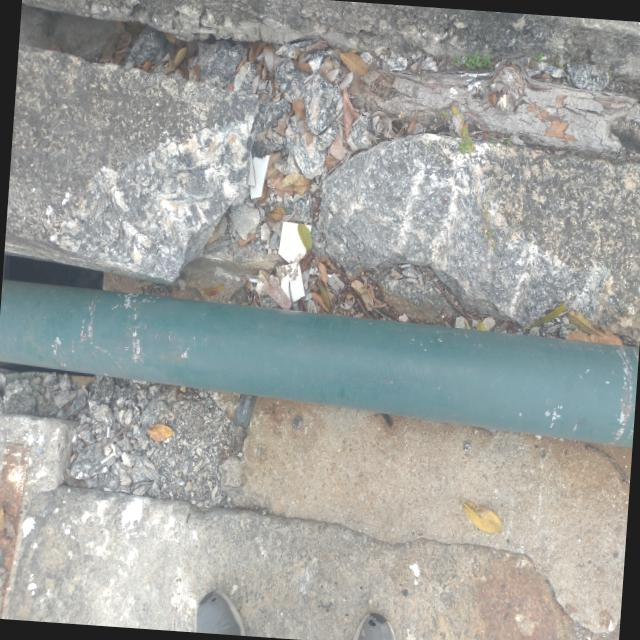gas: (0, 282, 638, 446)
